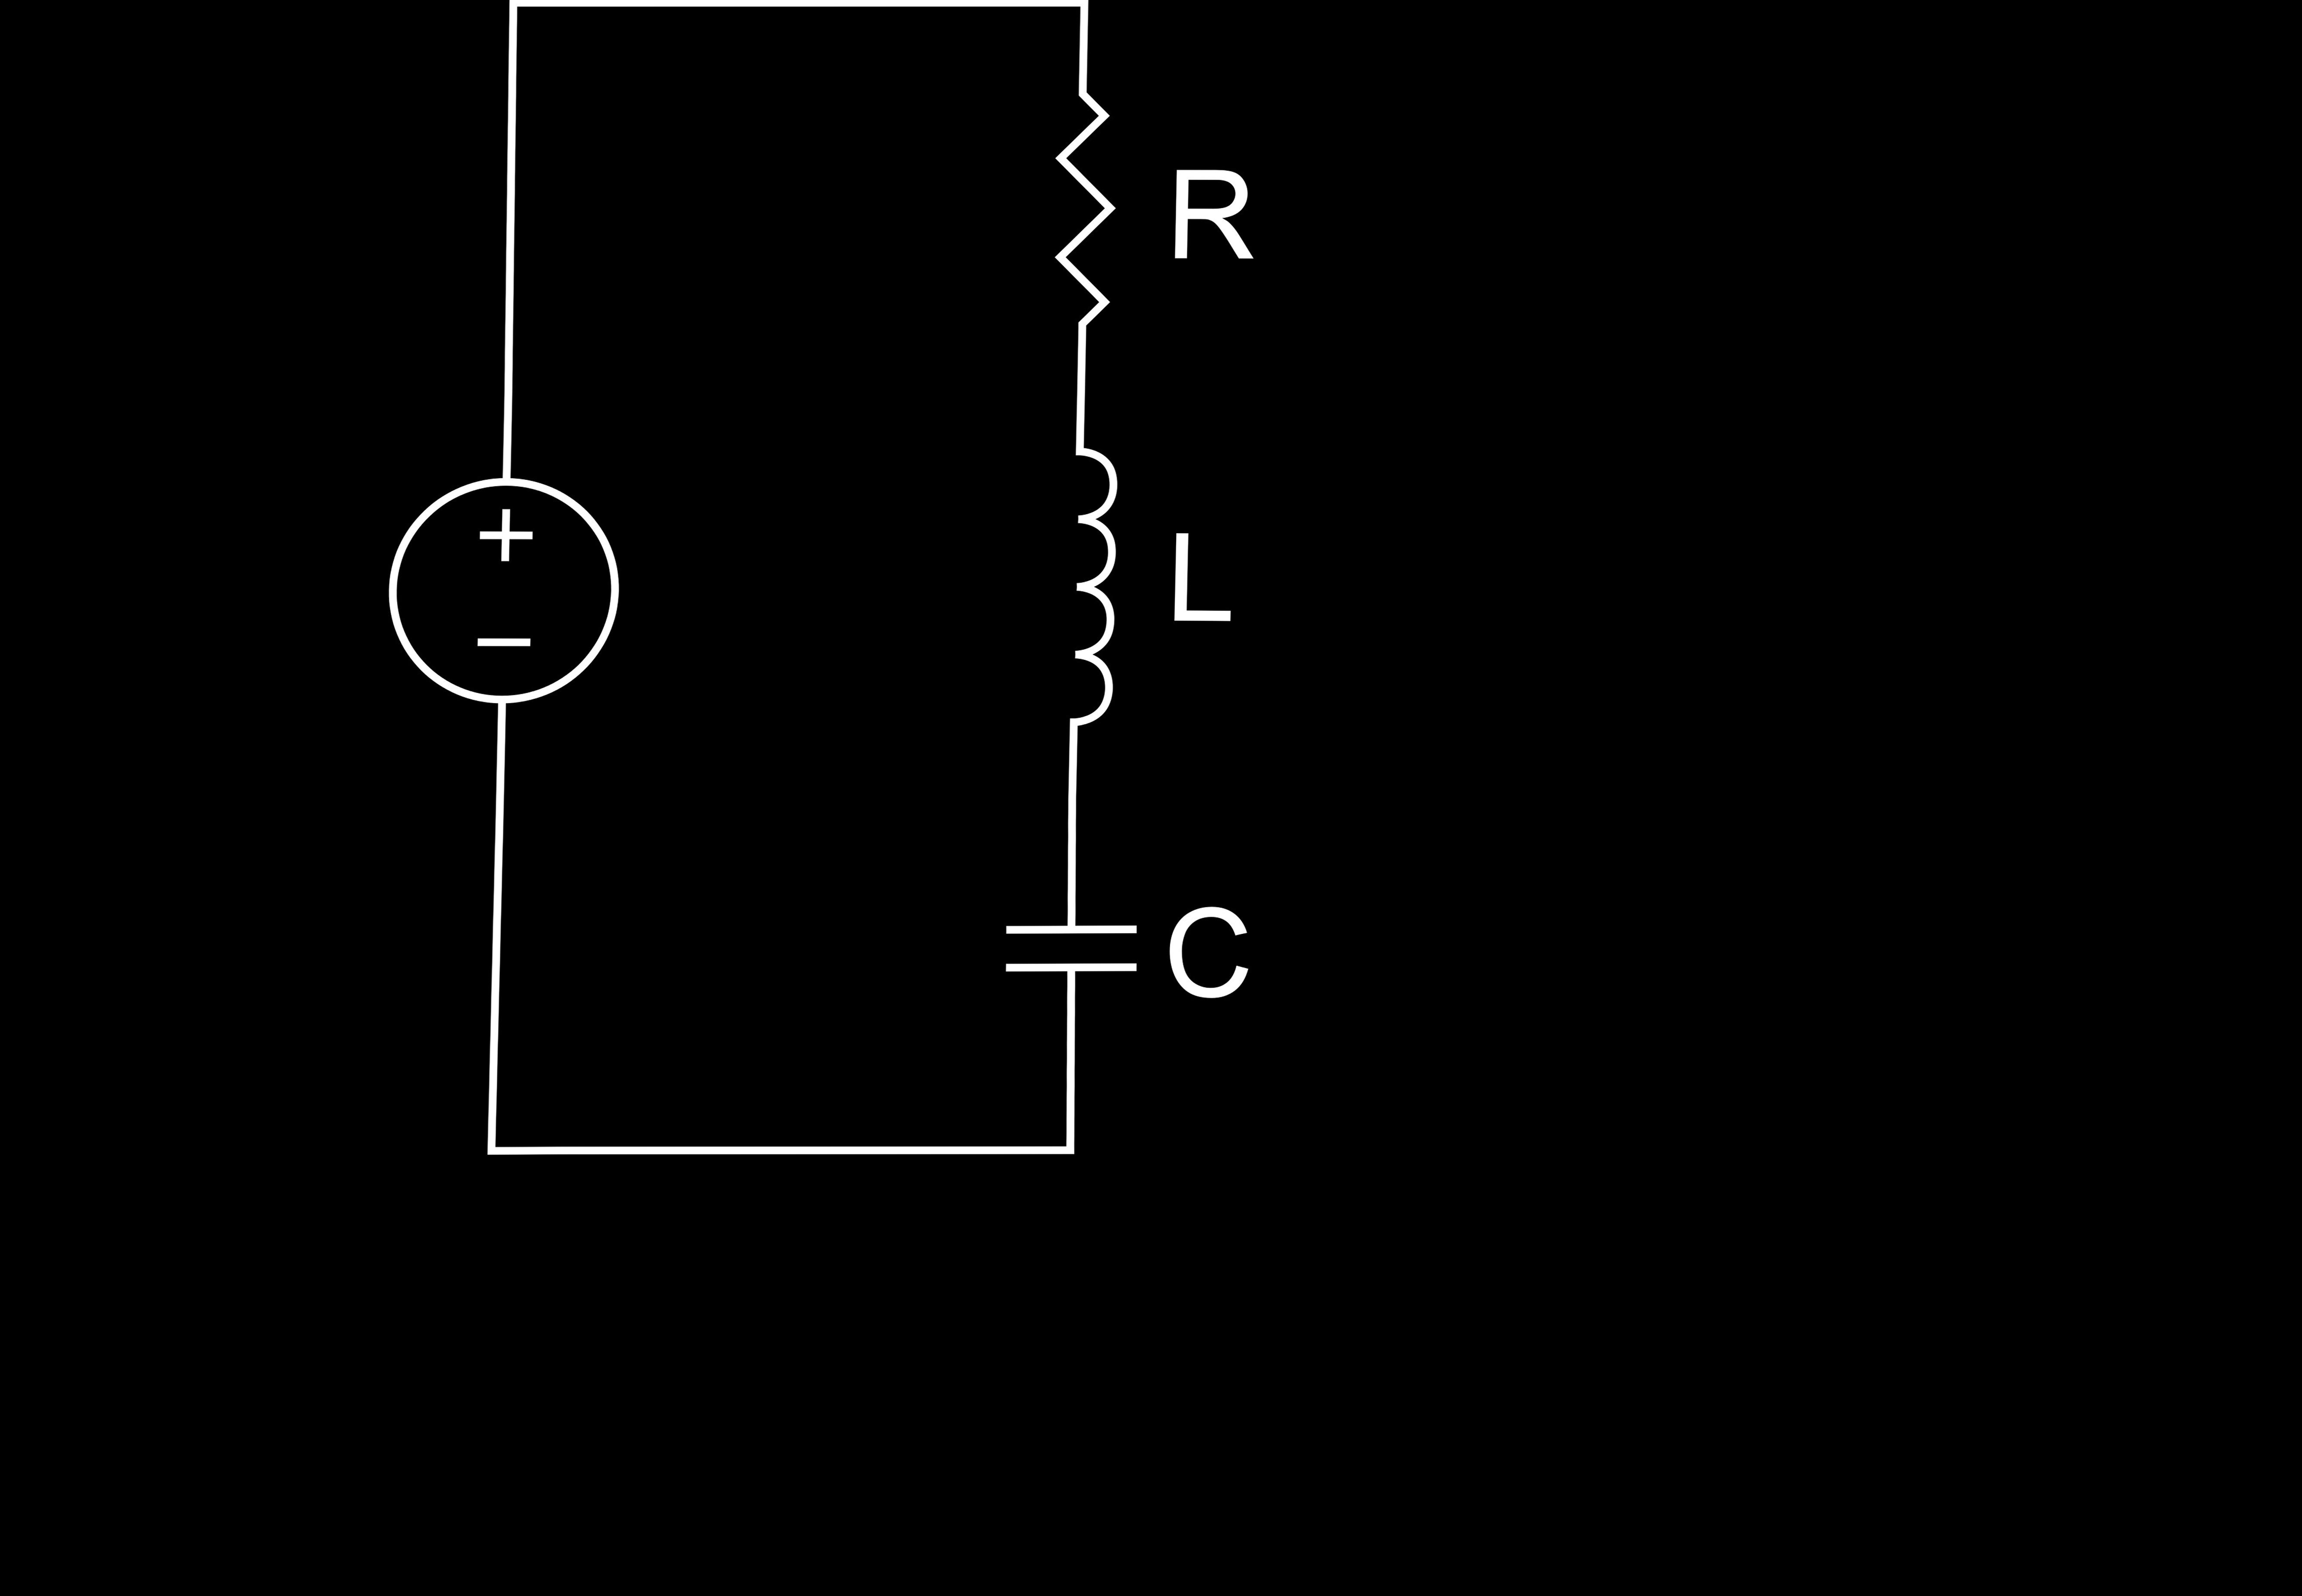Battery: (315, 443, 672, 735)
